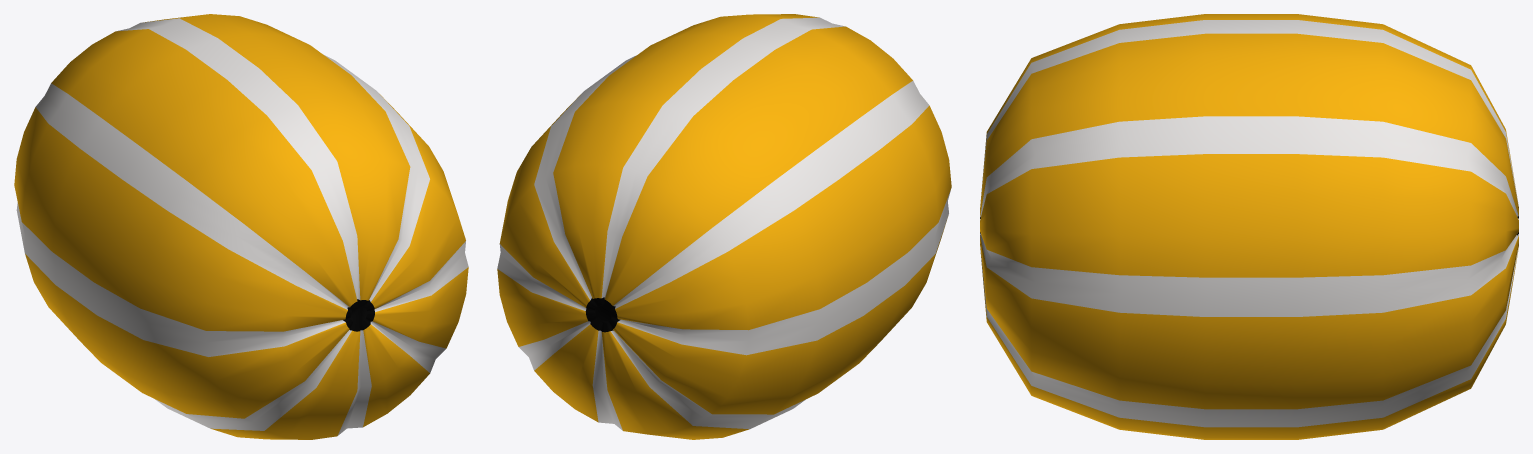
File: koreamelon.gltf
3 renders of one model, left to right at view 1: azimuth 30°, elevation 25°; view 2: azimuth 150°, elevation 25°; view 3: azimuth 270°, elevation 25°, orthographic. The views are drawn at different scales.
Parts seen in each view (by area): view 1: Kmelon; view 2: Kmelon; view 3: Kmelon.
Part boxes in pixels (x1=…): Kmelon: x1=14, y1=14, x2=468, y2=439; Kmelon: x1=497, y1=14, x2=951, y2=439; Kmelon: x1=980, y1=14, x2=1518, y2=439.
Size of the model in its own units: 2.1 by 2.1 by 2.65.
